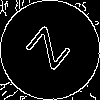Z: (25, 25, 80, 78)
